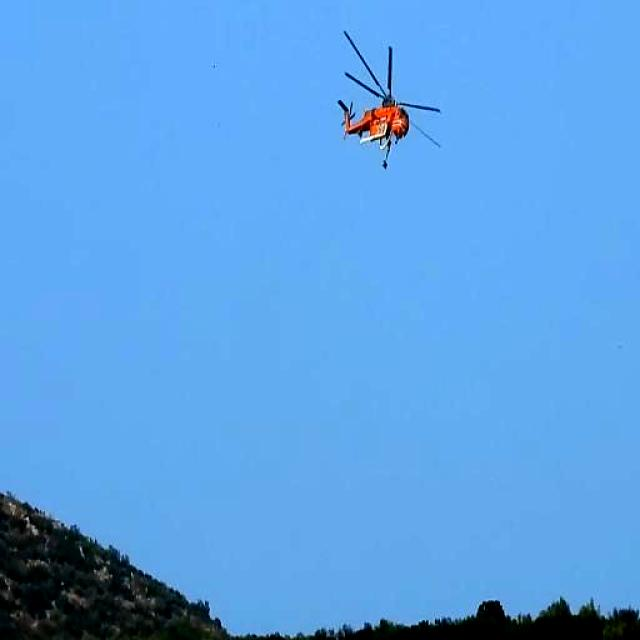drone: (291, 0, 454, 185)
